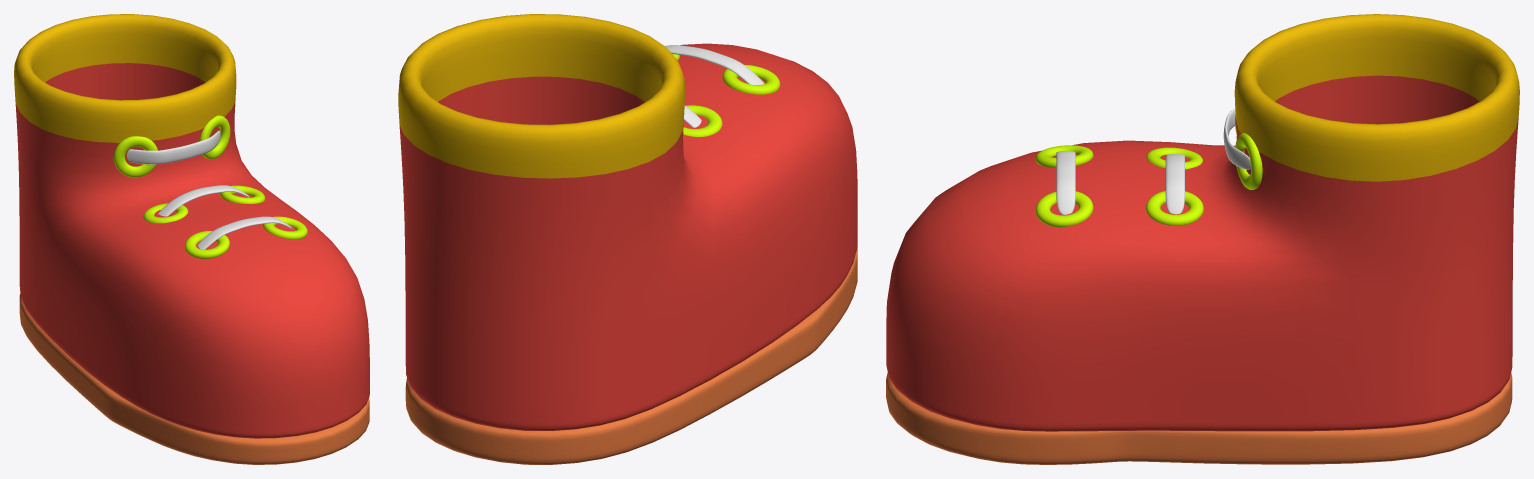
Rendered from Cartoon Shoe.fbx.
The picture shows the model from 3 angles, left to right: view 1: azimuth 30°, elevation 25°; view 2: azimuth 150°, elevation 25°; view 3: azimuth 270°, elevation 25°; orthographic projection. The views are drawn at different scales.
Visible parts, largest first — view 1: Cylinder, Cylinder.001, Cylinder.003, Plane.002, Plane, Plane.001; view 2: Cylinder, Cylinder.001, Cylinder.003, Plane; view 3: Cylinder, Cylinder.001, Cylinder.003, Plane, Plane.001, Plane.002.
Part boxes in pixels (x1=…): Cylinder: x1=14, y1=14, x2=369, y2=438; Cylinder.001: x1=19, y1=294, x2=369, y2=464; Cylinder.003: x1=113, y1=115, x2=307, y2=258; Plane.002: x1=126, y1=130, x2=220, y2=164; Plane: x1=197, y1=216, x2=292, y2=249; Plane.001: x1=158, y1=185, x2=249, y2=216; Cylinder: x1=398, y1=14, x2=857, y2=430; Cylinder.001: x1=405, y1=245, x2=857, y2=464; Cylinder.003: x1=672, y1=54, x2=780, y2=136; Plane: x1=665, y1=45, x2=764, y2=84; Cylinder: x1=886, y1=14, x2=1519, y2=431; Cylinder.001: x1=886, y1=372, x2=1512, y2=464; Cylinder.003: x1=1035, y1=114, x2=1262, y2=227; Plane: x1=1056, y1=151, x2=1075, y2=214; Plane.001: x1=1165, y1=154, x2=1184, y2=214; Plane.002: x1=1223, y1=108, x2=1250, y2=169.
Bounding box in the file's own units: 207 × 250 × 422.
